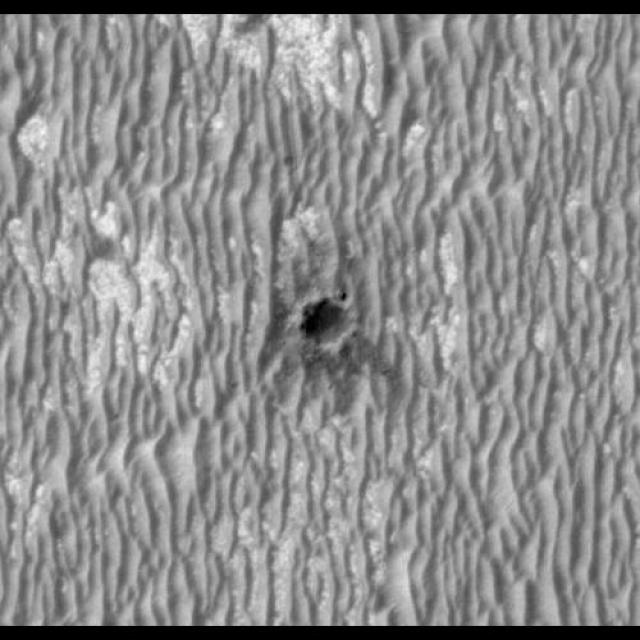crater: (284, 284, 375, 361)
